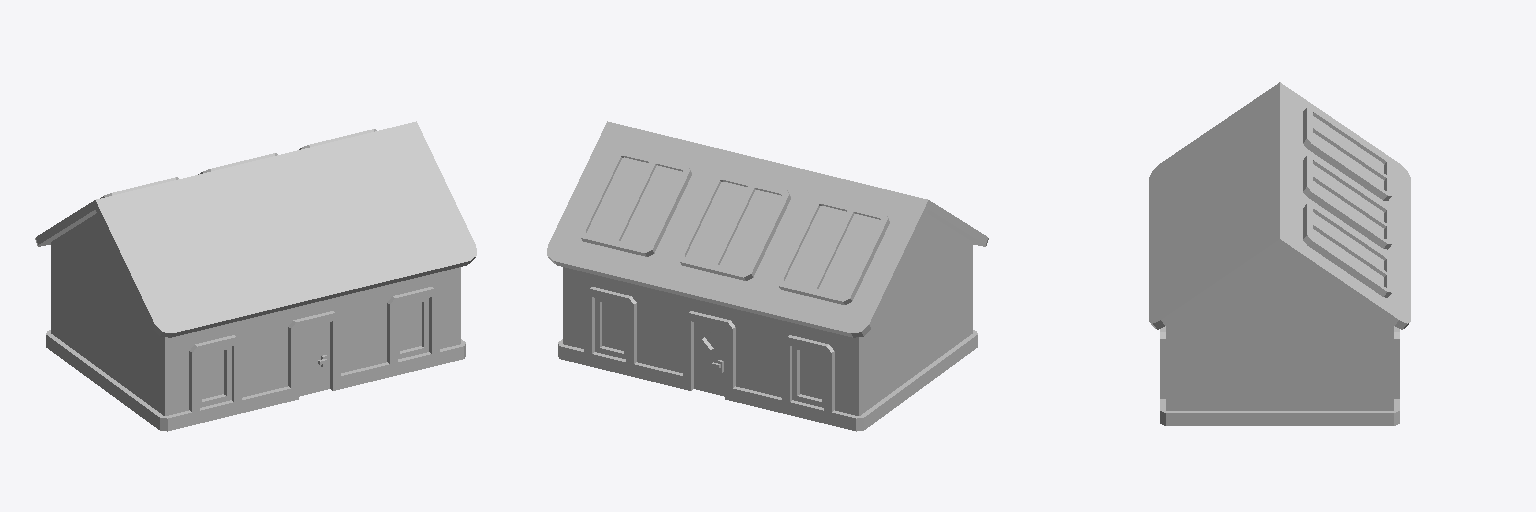
The model's file is suburban_building-type-h.obj.
3 views of the same model, side by side, from view 1: azimuth 30°, elevation 25°; view 2: azimuth 150°, elevation 25°; view 3: azimuth 270°, elevation 25° (orthographic).
Visible parts, largest first — view 1: building-type-h; view 2: building-type-h; view 3: building-type-h.
Boxes of the visible parts, x1,y1,x2,y2 form: building-type-h: [35, 121, 476, 431]; building-type-h: [547, 121, 988, 431]; building-type-h: [1149, 82, 1410, 425].
Size of the model in its own units: 1.3 by 0.7375 by 0.916.